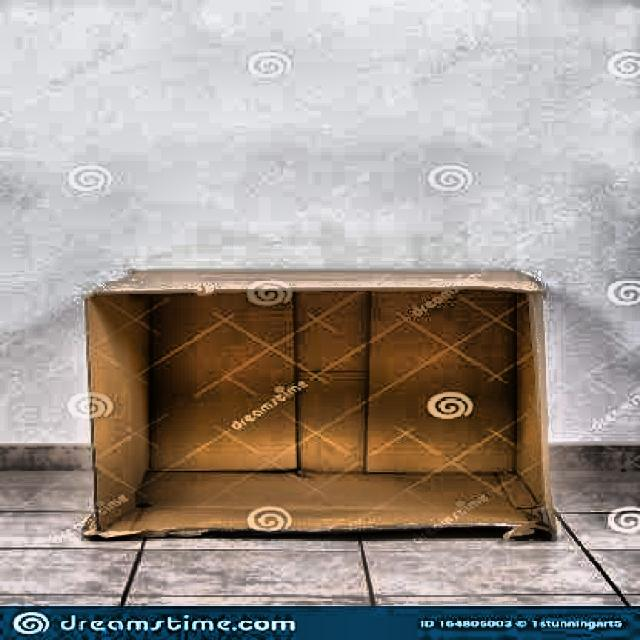Cardbox: (72, 270, 614, 540)
